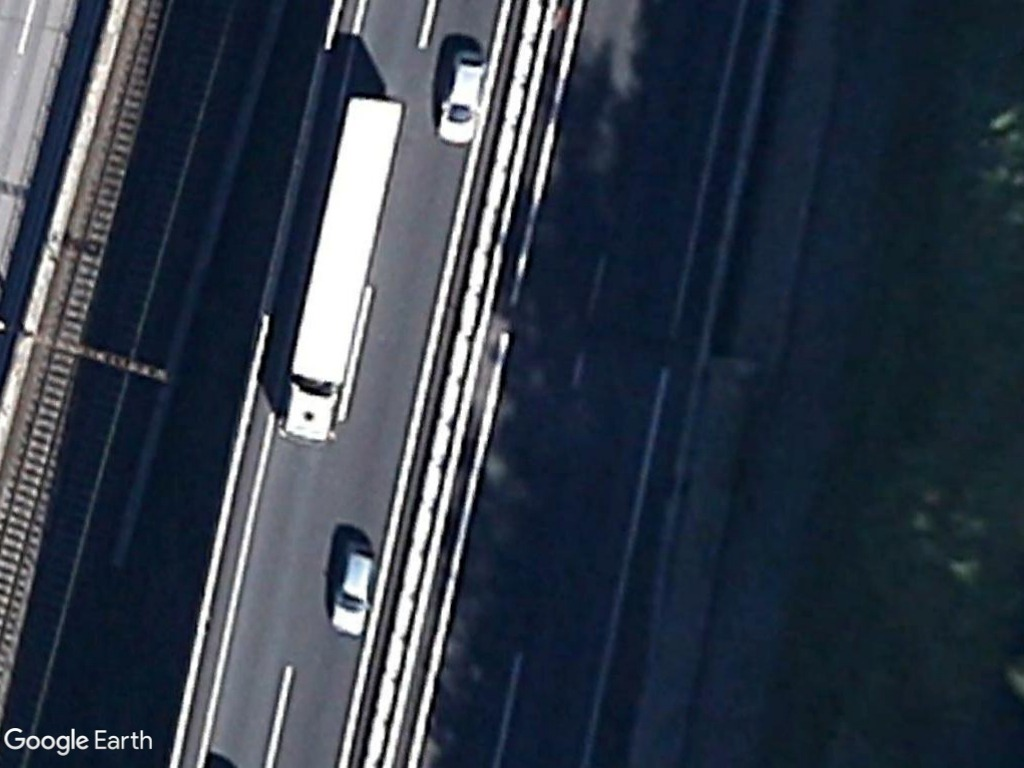car: (432, 48, 491, 150), (323, 539, 382, 641)
longvehicle: (271, 90, 406, 446)
